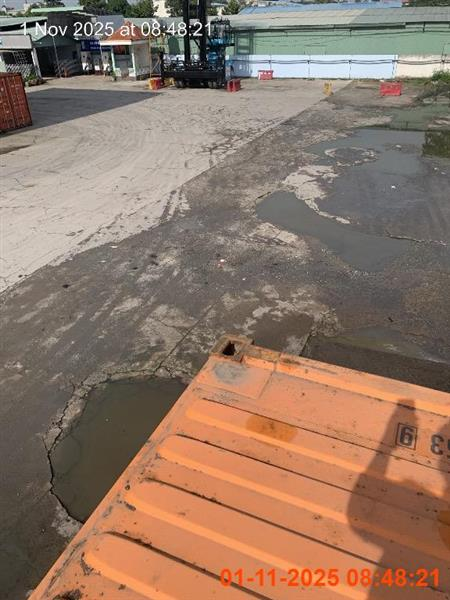broken: (27, 333, 449, 599)
